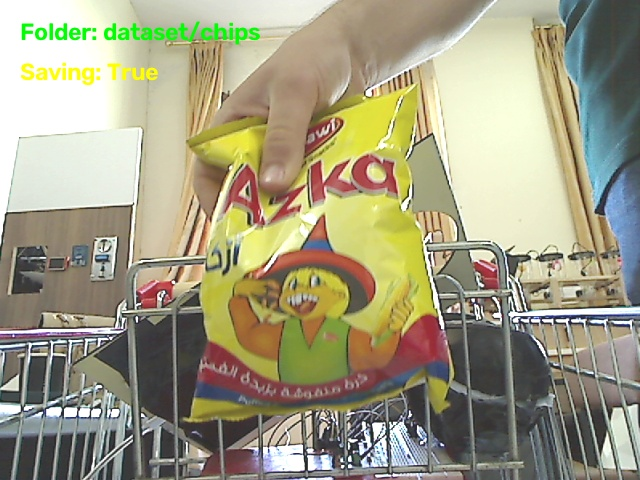chips: (189, 86, 451, 421)
